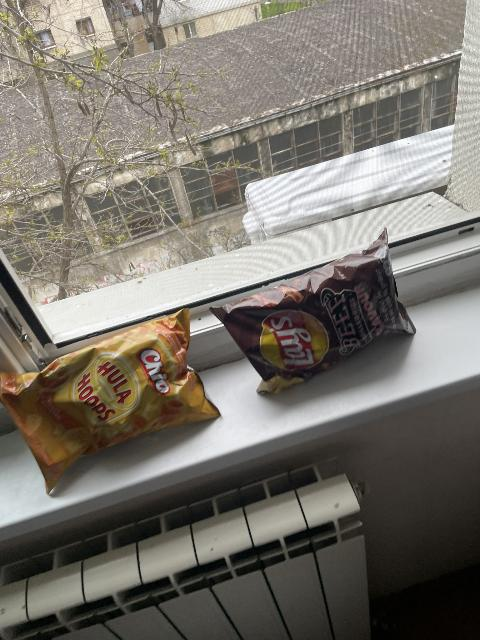Chio Hula Hoops Cheese 70g: (0, 305, 220, 494)
Lays Beef Grilled Ribs 125g: (205, 226, 417, 395)
